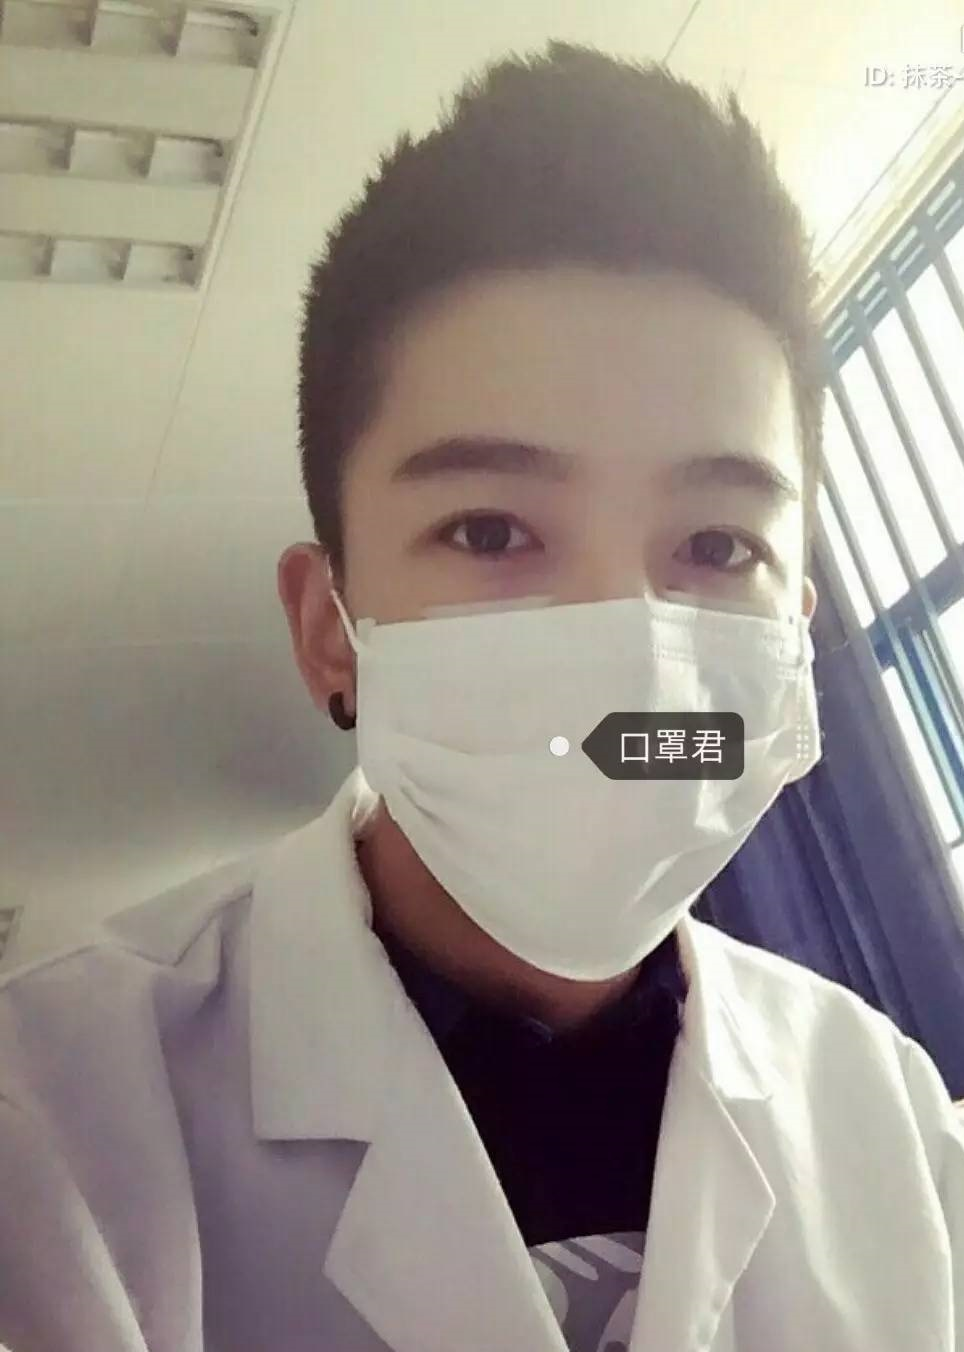face_mask: (356, 303, 825, 984)
